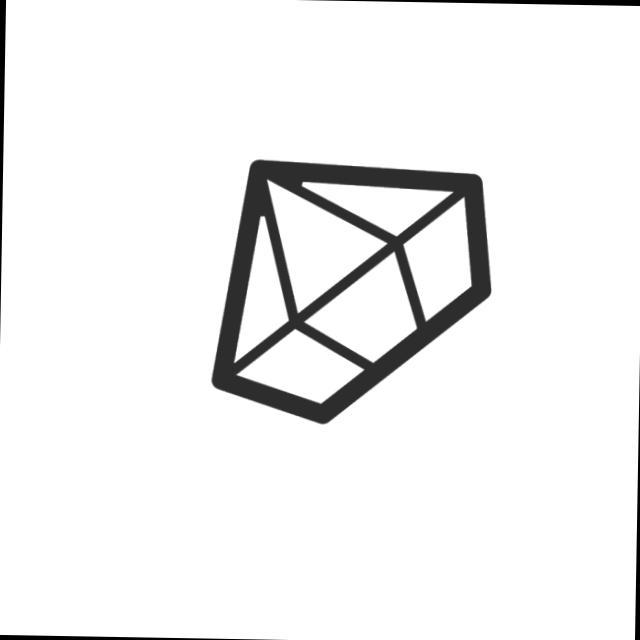diamond: (203, 152, 501, 436)
